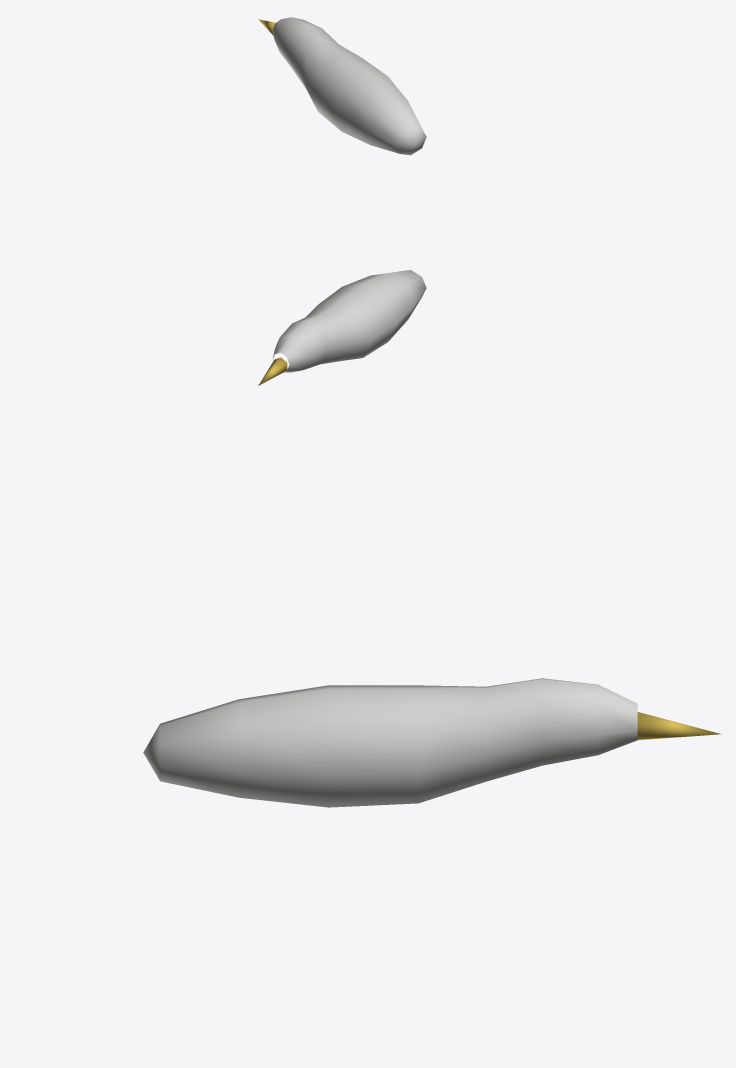
File: gull.glb
3 renders of one model, top to bottom at view 1: azimuth 30°, elevation 25°; view 2: azimuth 150°, elevation 25°; view 3: azimuth 270°, elevation 25°, orthographic. The views are drawn at different scales.
Visible parts, largest first — view 1: Gull; view 2: Gull; view 3: Gull.
Part boxes in pixels (x1,y1,x2,y2): Gull: (258, 17, 426, 155); Gull: (258, 270, 426, 385); Gull: (143, 678, 721, 807).
Size of the model in its own units: 1.32 by 0.122 by 0.63.
